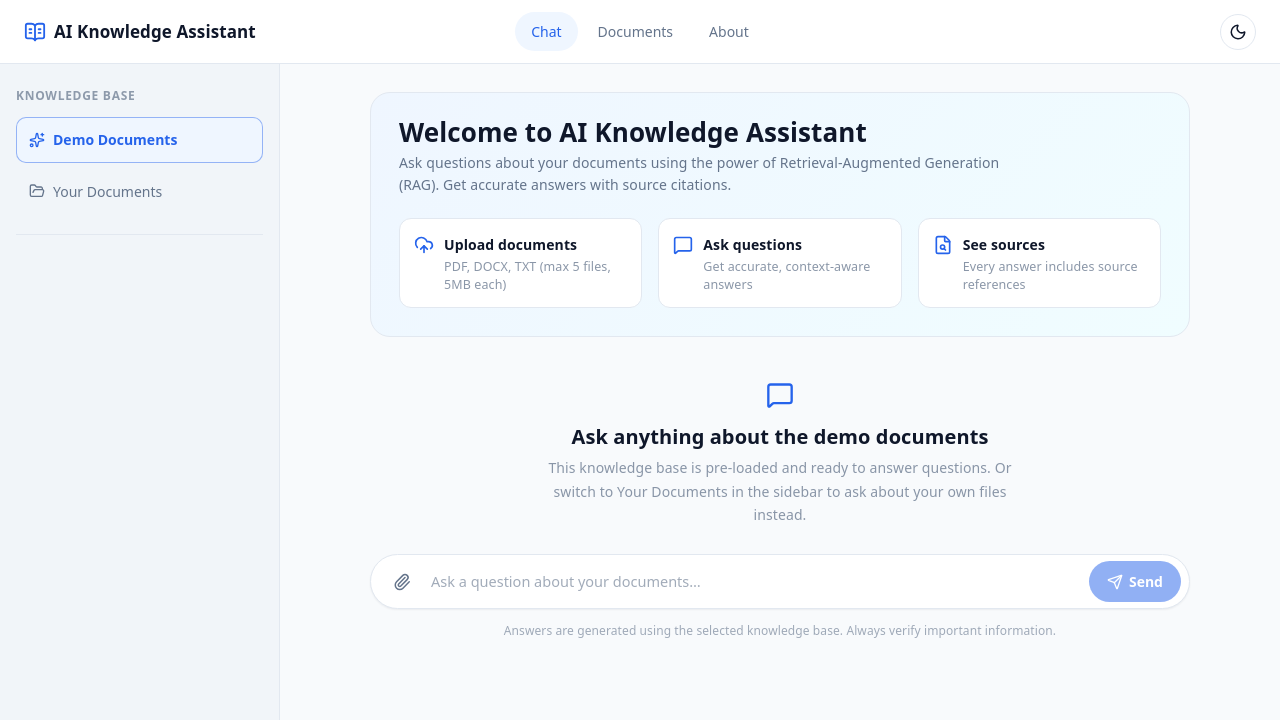
Scenario: App view switching › switches to the Documents view when its nav item is clicked
Step 1. Click the button "Documents" → coordinates (635, 32), box [582,12,689,51]
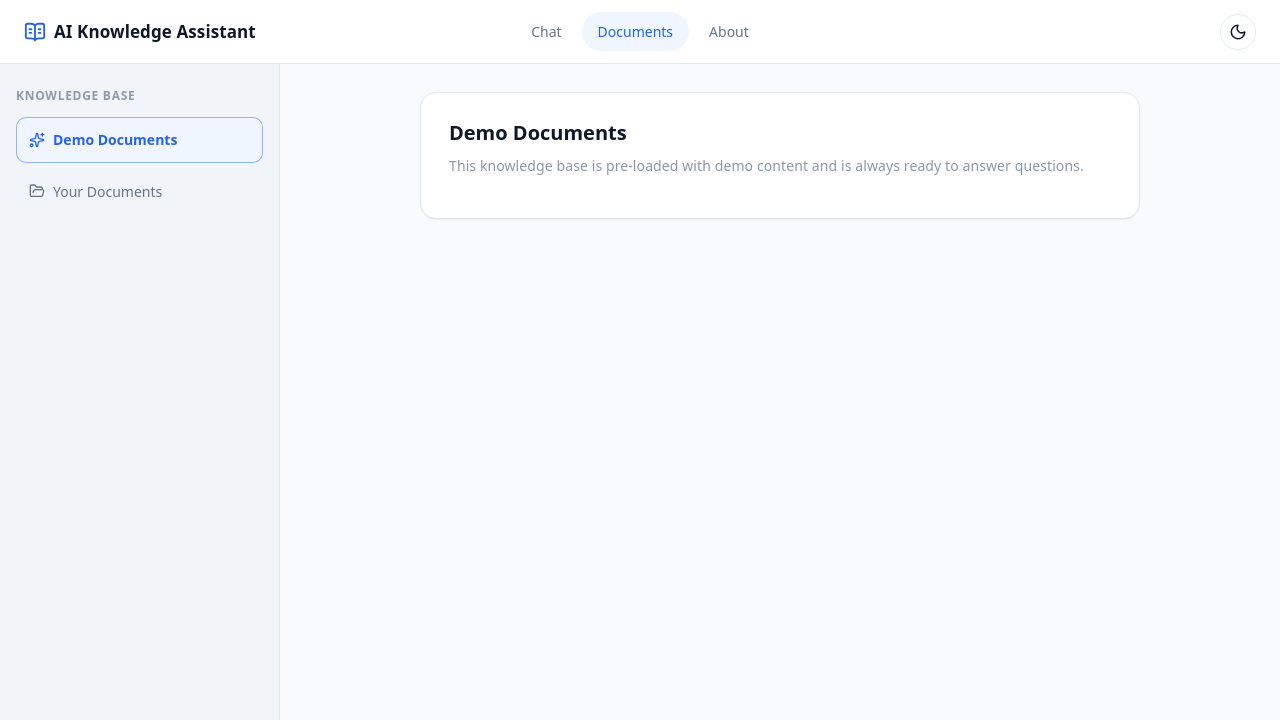
Now the field is gone
